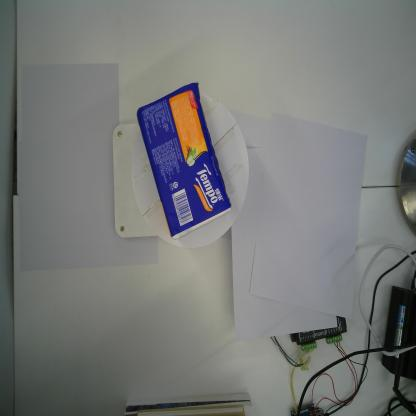Tissue: (136, 80, 233, 242)
